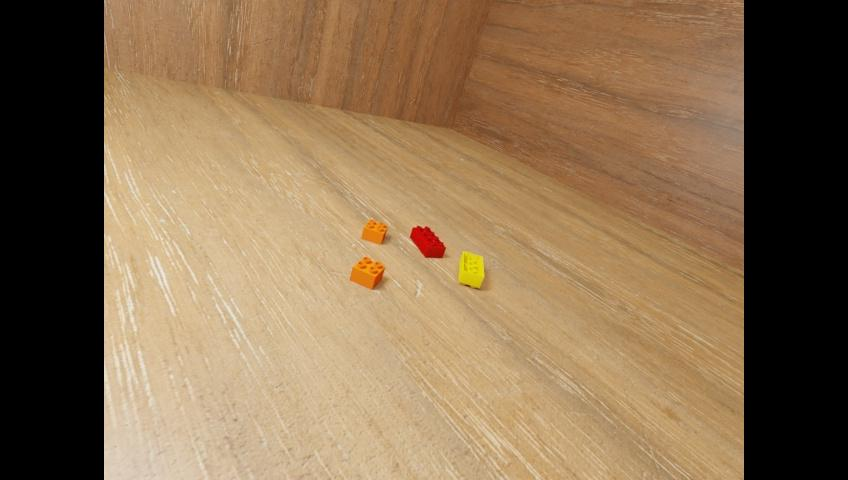2x2_orange: (349, 256, 384, 289), (361, 218, 387, 245)
4x2_red: (409, 225, 445, 257)
4x2_yellow: (458, 250, 483, 288)
